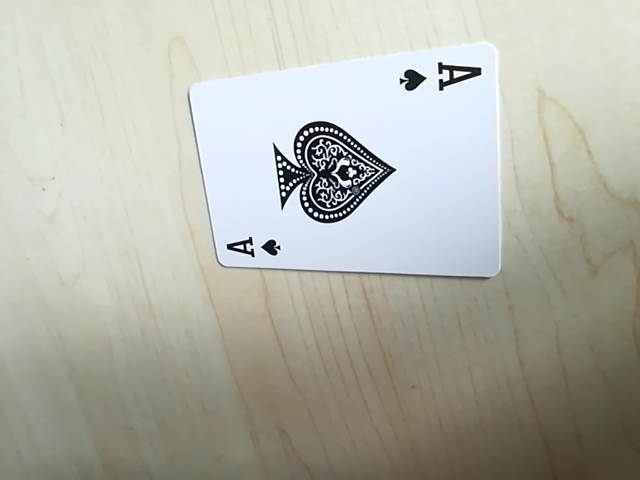ht a: (398, 53, 484, 101), (217, 234, 286, 265)
